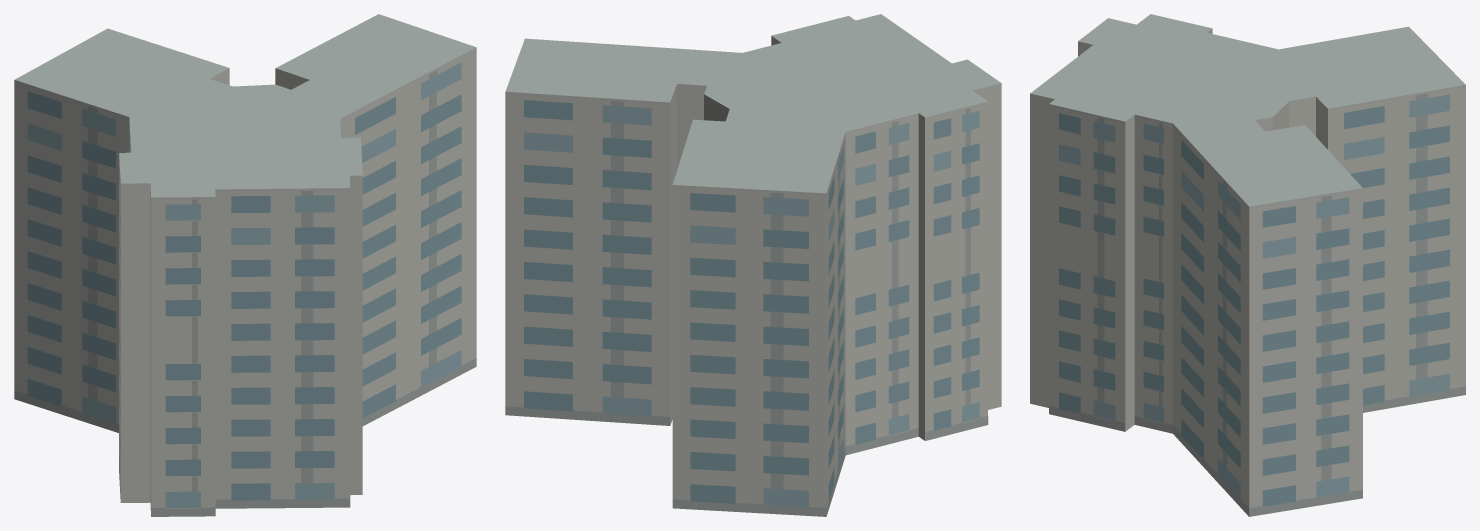
The model's file is residential-04104765-ff12-455f-9044-63e7fdf3ab88.glb.
3 renders of one model, left to right at view 1: azimuth 30°, elevation 25°; view 2: azimuth 150°, elevation 25°; view 3: azimuth 270°, elevation 25°, orthographic. The views are drawn at different scales.
Parts seen in each view (by area): view 1: residential-04104765-ff12-455f-9044-63e7fdf3ab88.tmp; view 2: residential-04104765-ff12-455f-9044-63e7fdf3ab88.tmp; view 3: residential-04104765-ff12-455f-9044-63e7fdf3ab88.tmp.
Part boxes in pixels (x1,y1,x2,y2): residential-04104765-ff12-455f-9044-63e7fdf3ab88.tmp: [14, 14, 476, 516]; residential-04104765-ff12-455f-9044-63e7fdf3ab88.tmp: [505, 14, 1001, 516]; residential-04104765-ff12-455f-9044-63e7fdf3ab88.tmp: [1030, 14, 1465, 516].
Size of the model in its own units: 43.97 by 33 by 42.01.
